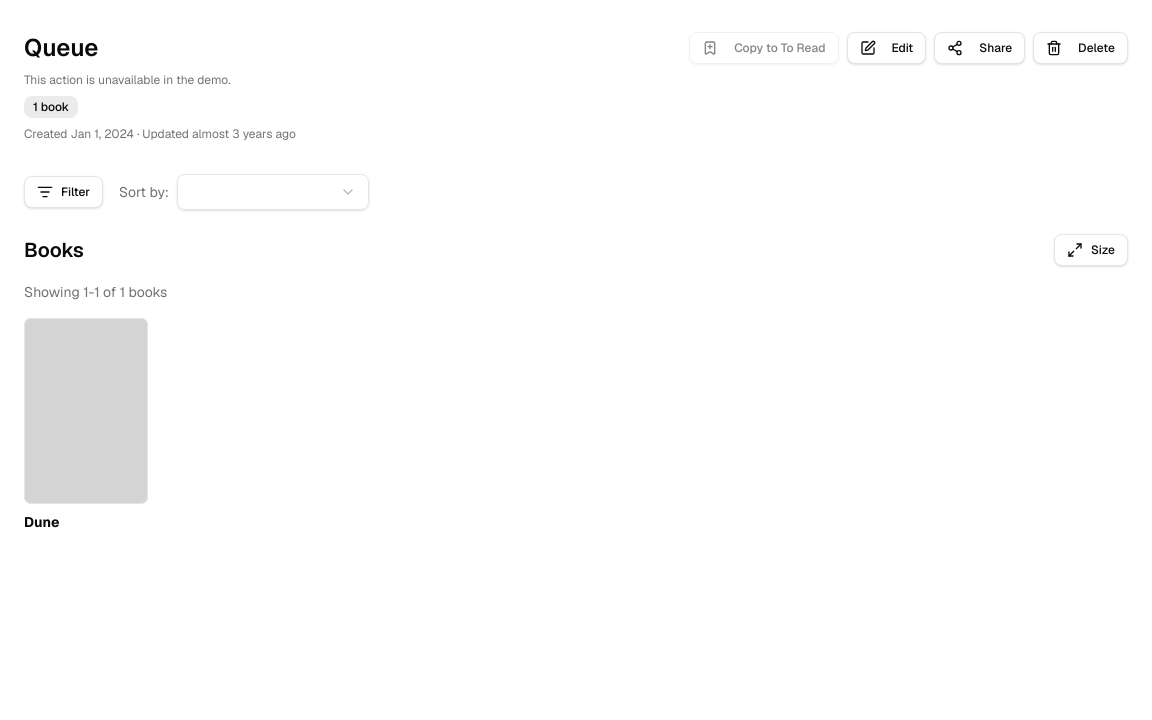
Scenario: ListDetail permission gating › does not ask for the user directory in Demo Mode, where it is absent
Click the button "Share" at (980, 48), box [934,32,1025,64]
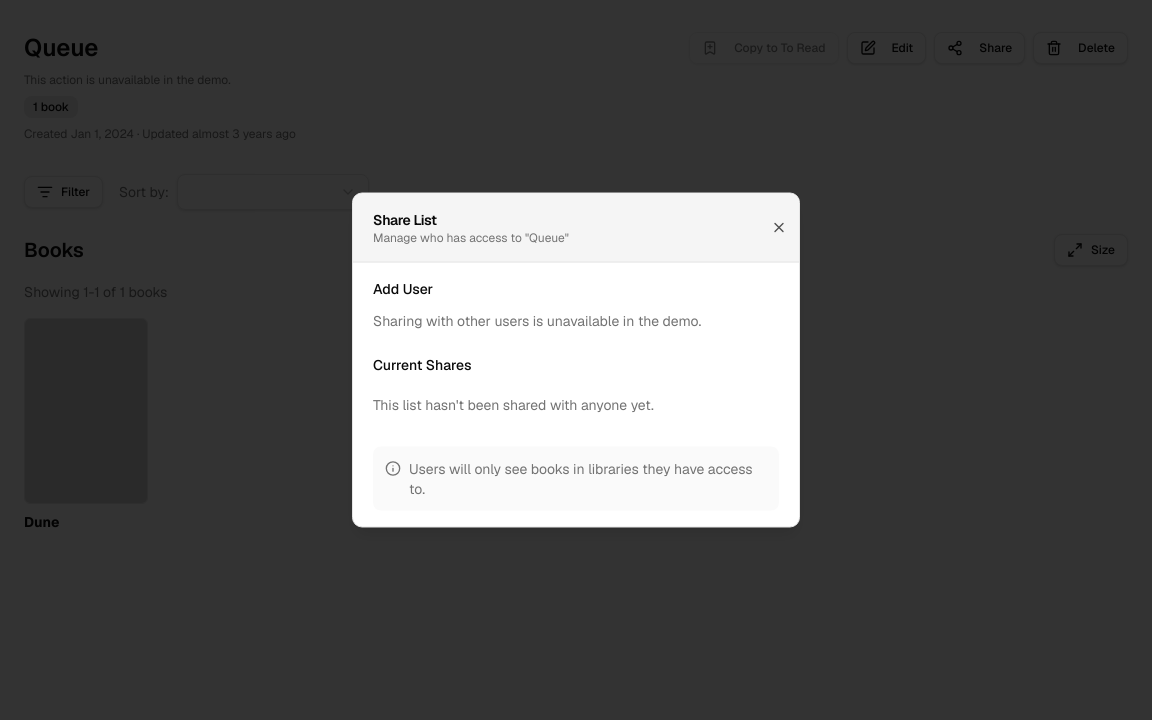
expect the text "Sharing with other users is unavailable in the demo." is shown: met, box [373,312,701,330]
